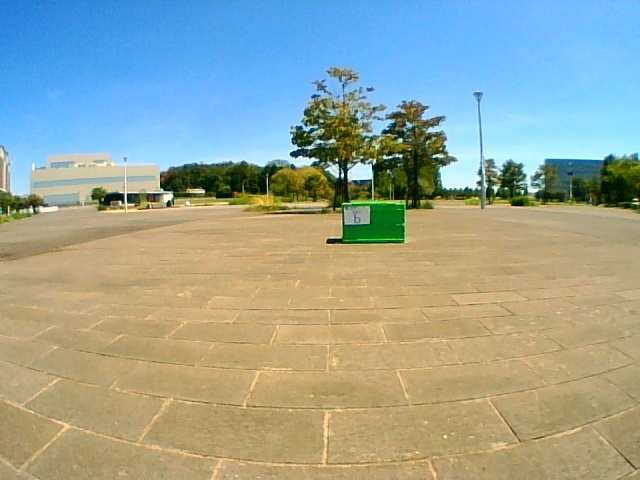green_box: (343, 202, 405, 243)
tag_b: (345, 207, 369, 224)
